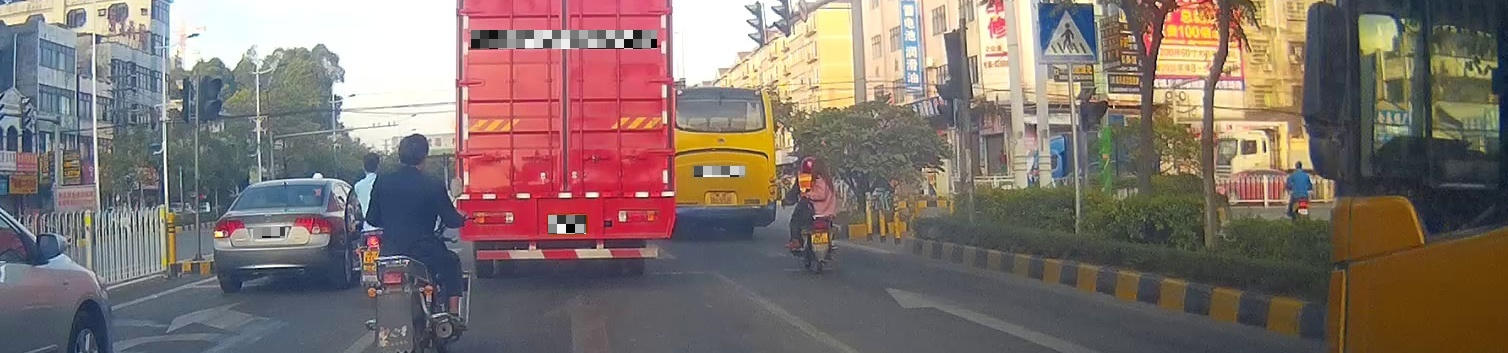L_light: (212, 219, 245, 238)
R_light: (294, 216, 334, 234)
T_light: (274, 184, 293, 189)
day-left: (212, 179, 335, 292)
plate_1: (253, 227, 285, 238)
plate_2: (471, 30, 657, 49)
plate_3: (548, 215, 586, 234)
plate_4: (694, 166, 745, 177)
